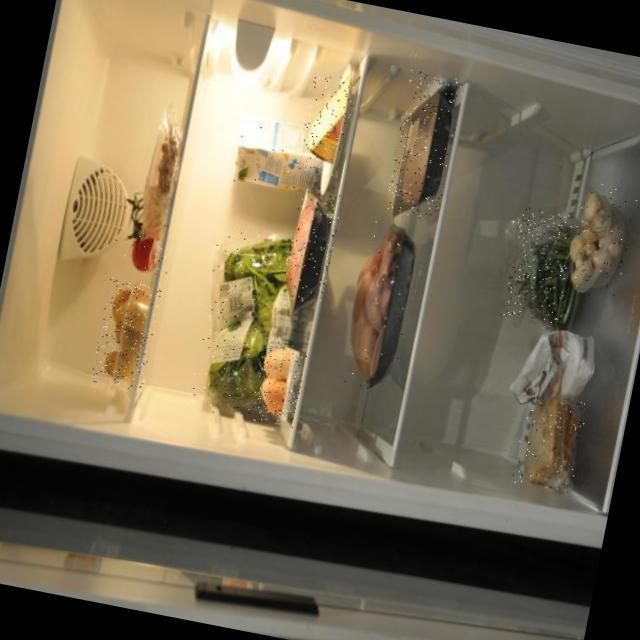Carne pollo: (329, 216, 426, 402)
Champiñones: (560, 179, 640, 300)
Huevos: (247, 338, 309, 427)
Queso: (297, 71, 358, 176)
